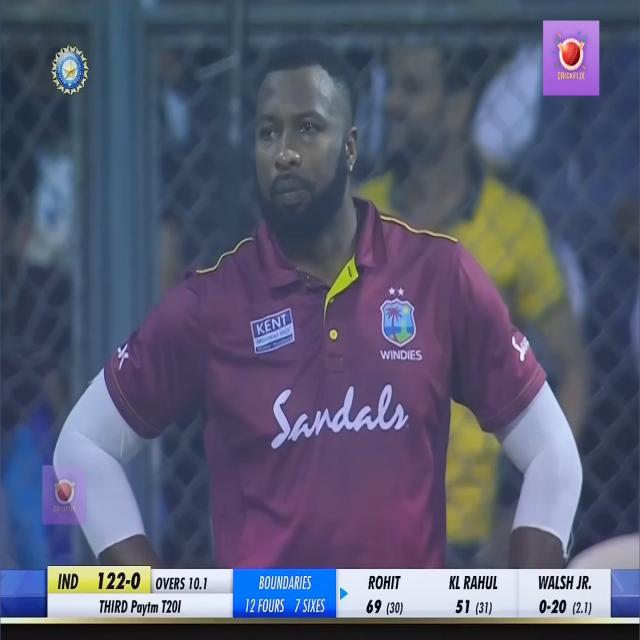fully_visible: (129, 598, 162, 619)
